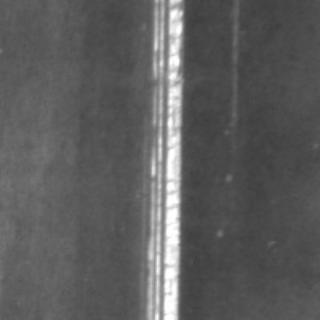scratches: (140, 0, 183, 318)
